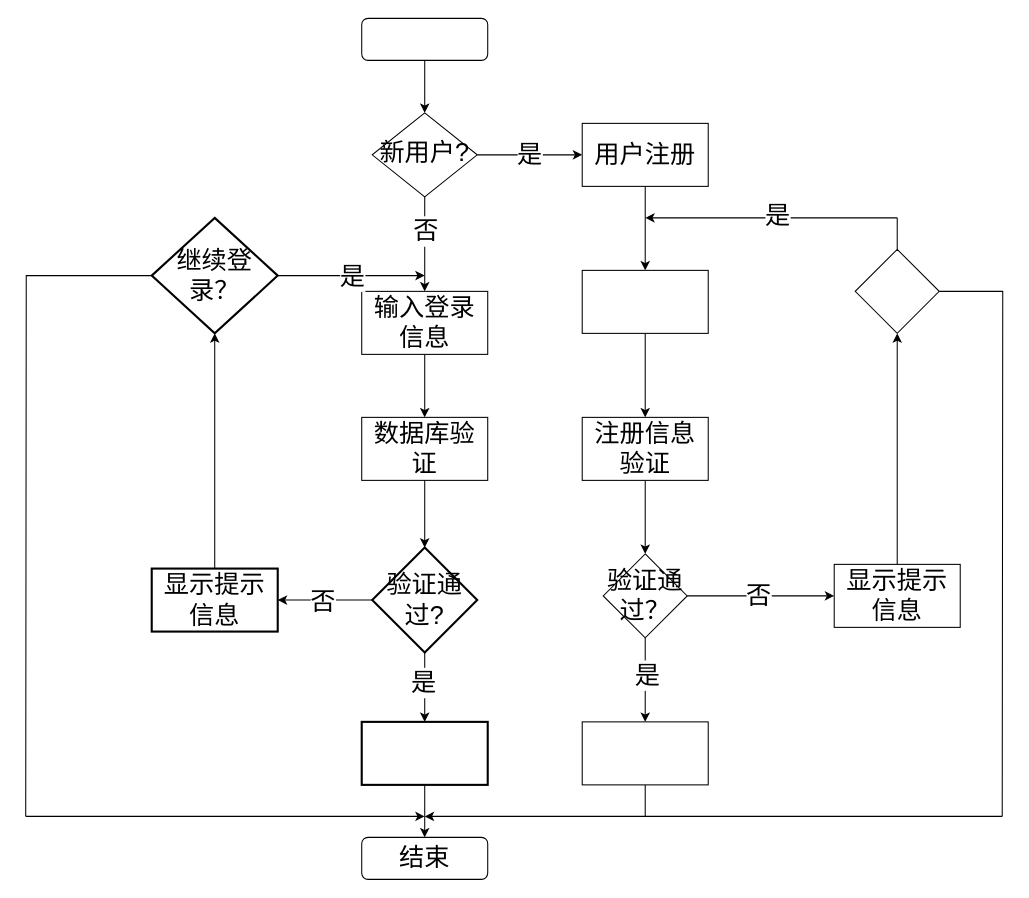
Image size: 1029x898. Some labels were removed from this diagram. Each missing label, with the box of its shape:
开始: (361, 17, 488, 60)
数据库保存: (581, 721, 708, 785)
根据角色权限显示菜单和功能: (360, 720, 488, 785)
继续注册？: (854, 248, 939, 333)
输入注册信息: (581, 269, 708, 333)
